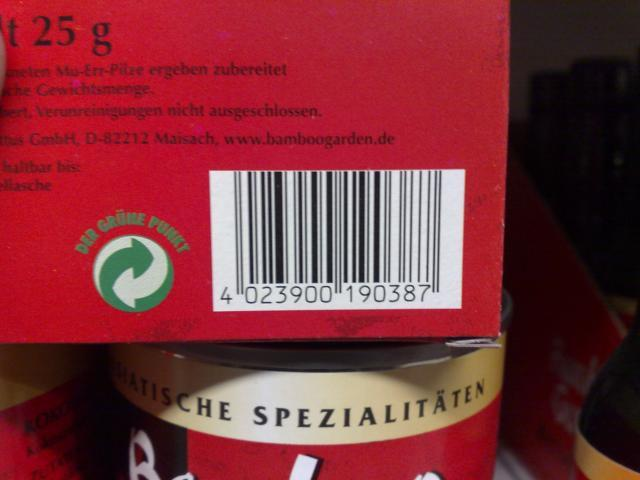Barcode: (214, 169, 448, 309)
